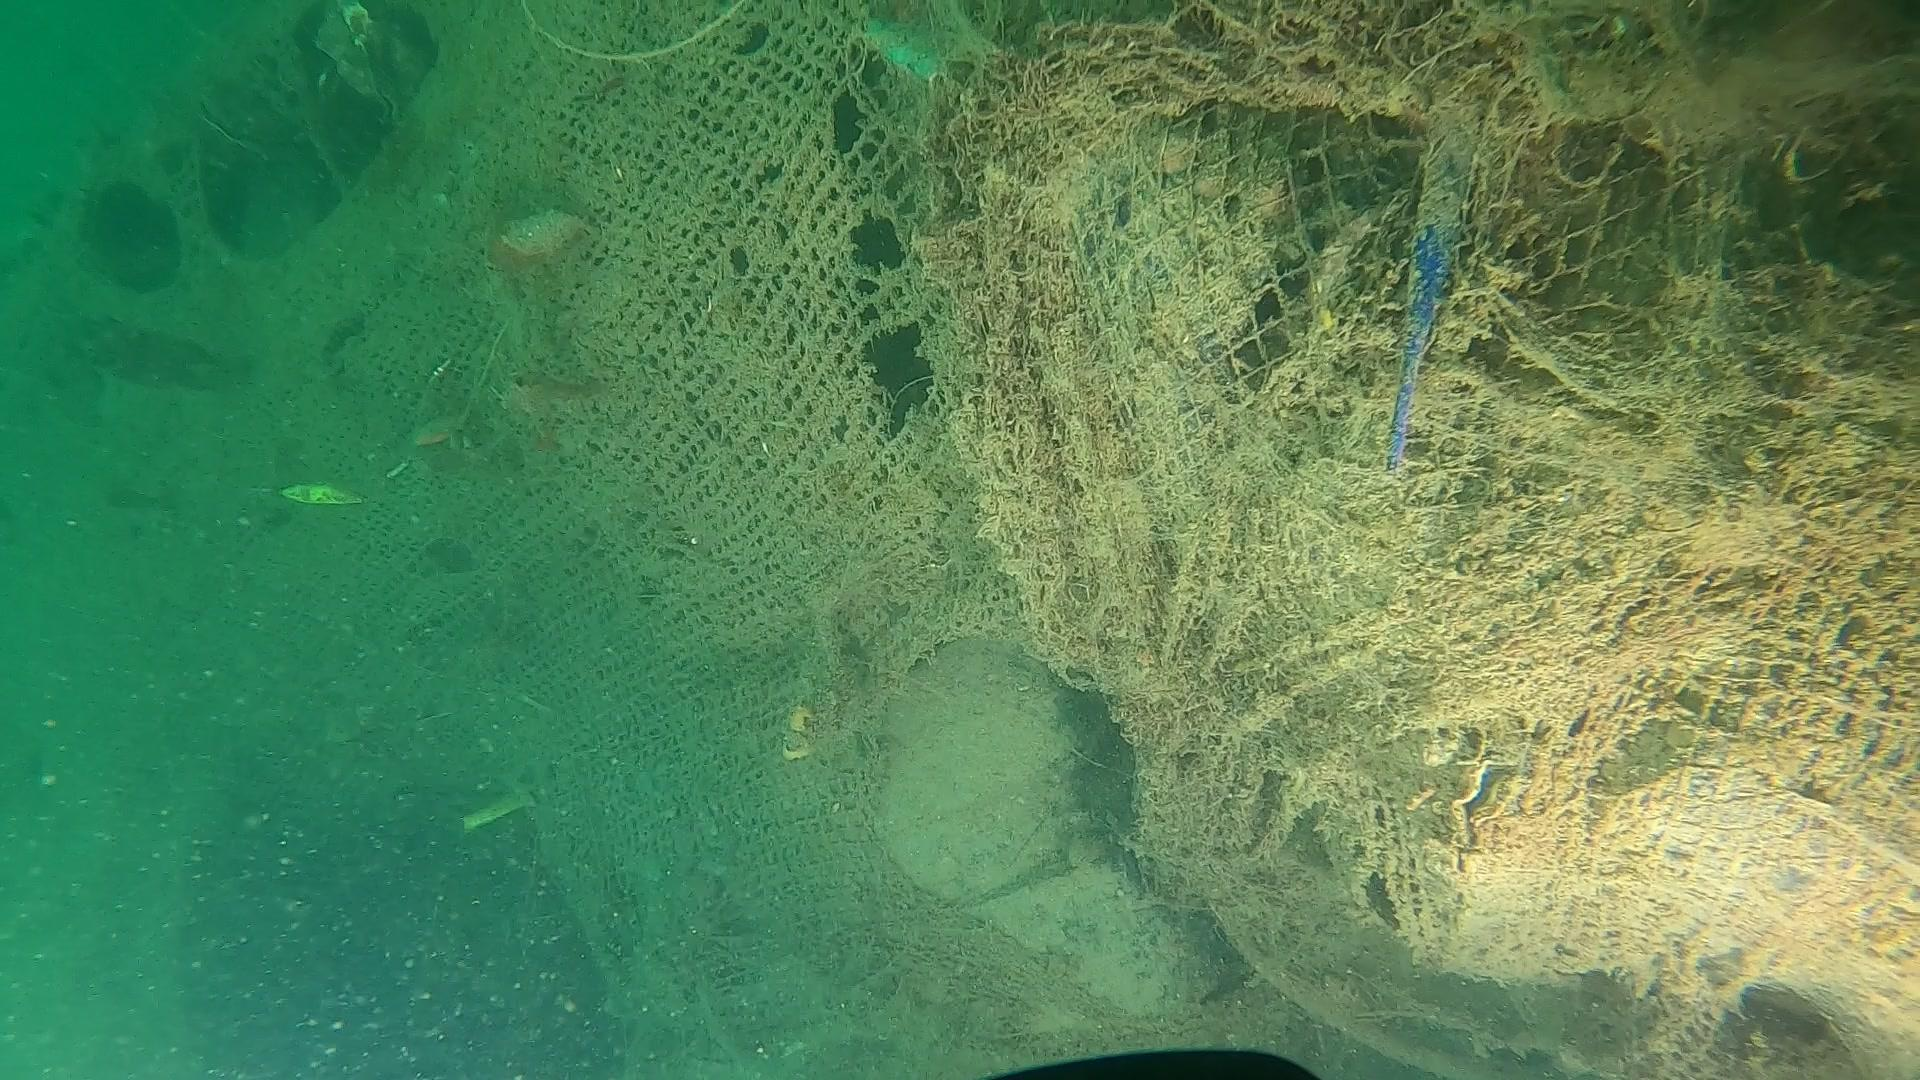fish net: (310, 0, 1011, 1007), (1065, 94, 1747, 531)
